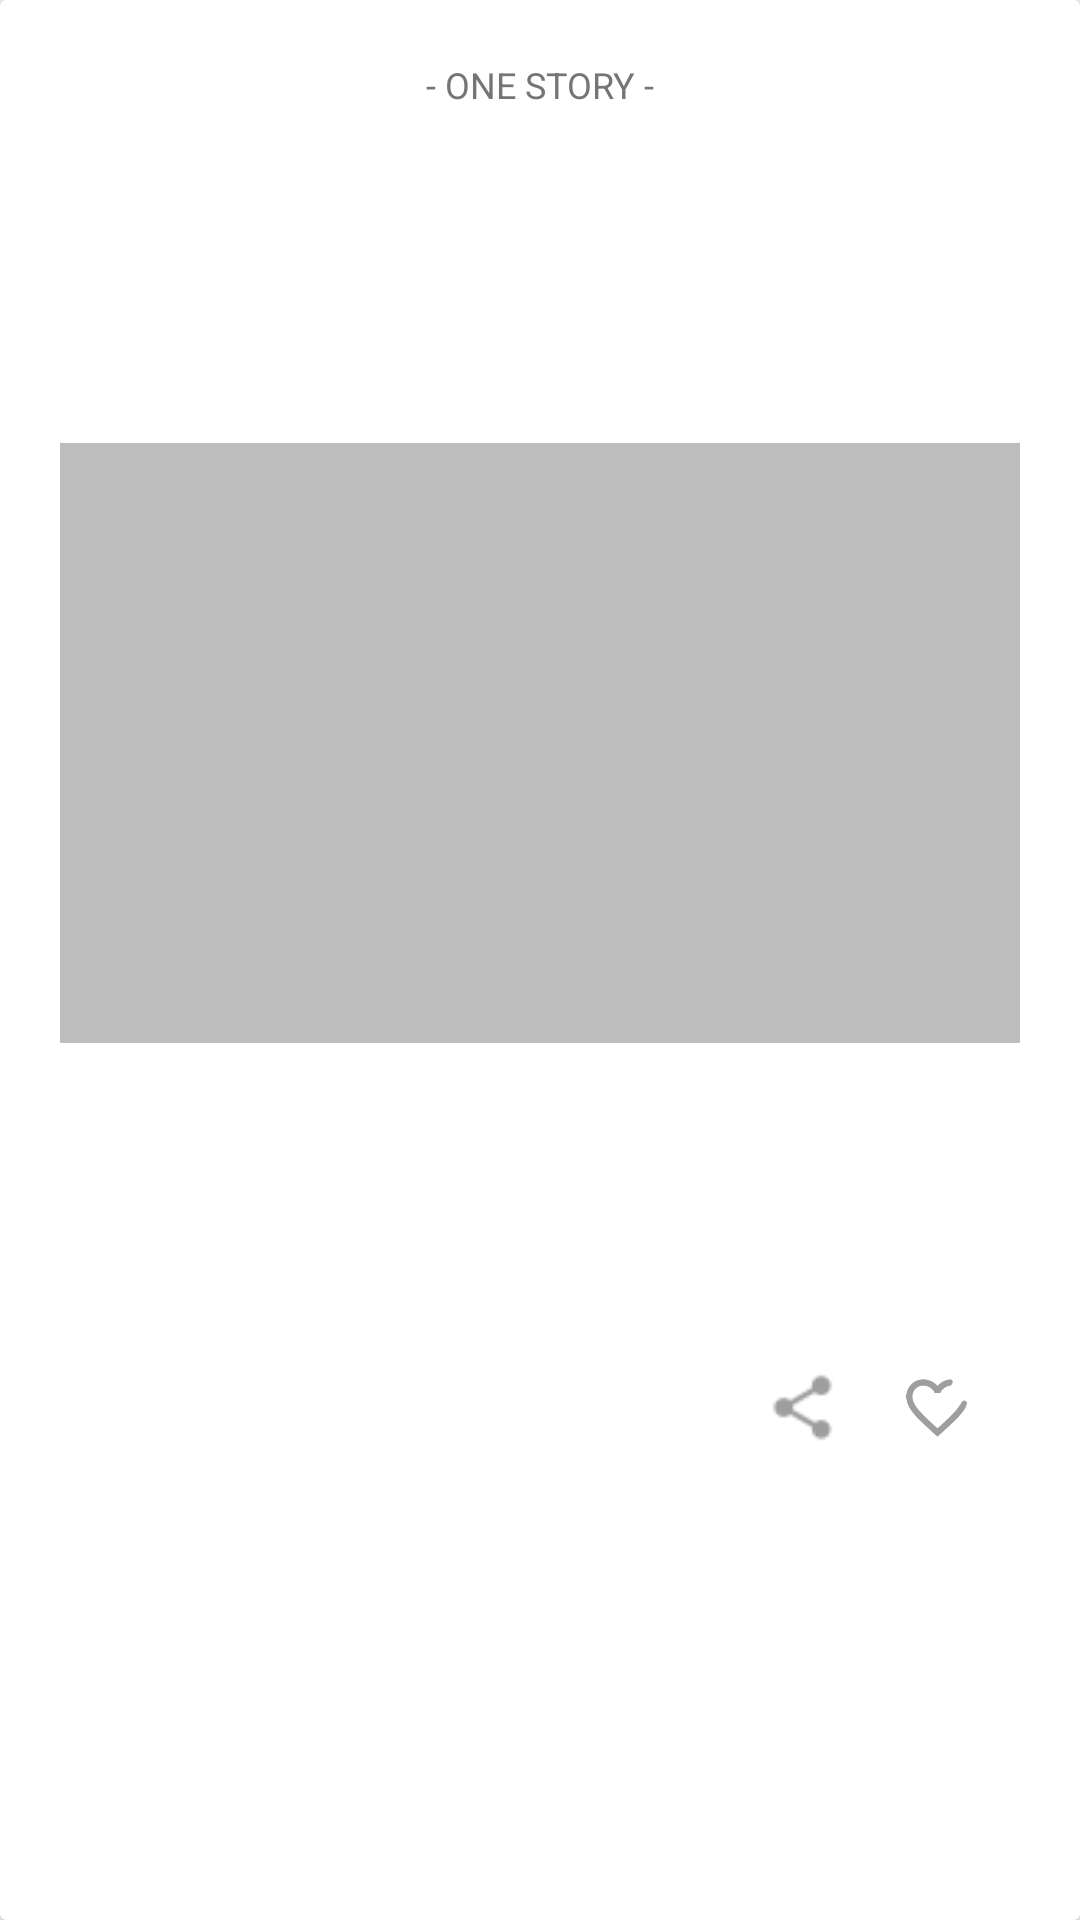

Locate icon controls on the screen. Image size 1080*1920, boxes as (x1, y1, x2, y2).
fav border: (906, 1379, 967, 1437)
share: (773, 1375, 832, 1440)
